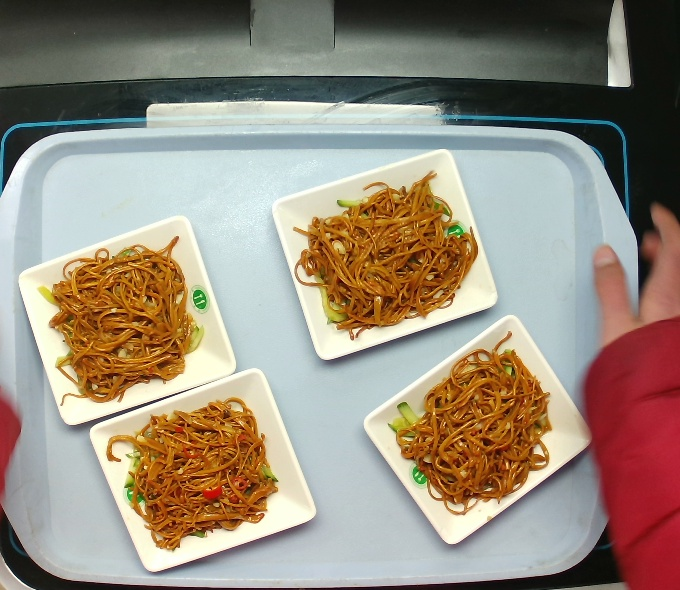wcq-LiangBanChongCaoHua: (294, 171, 479, 341), (390, 332, 553, 516), (111, 398, 279, 552), (48, 235, 200, 404)
